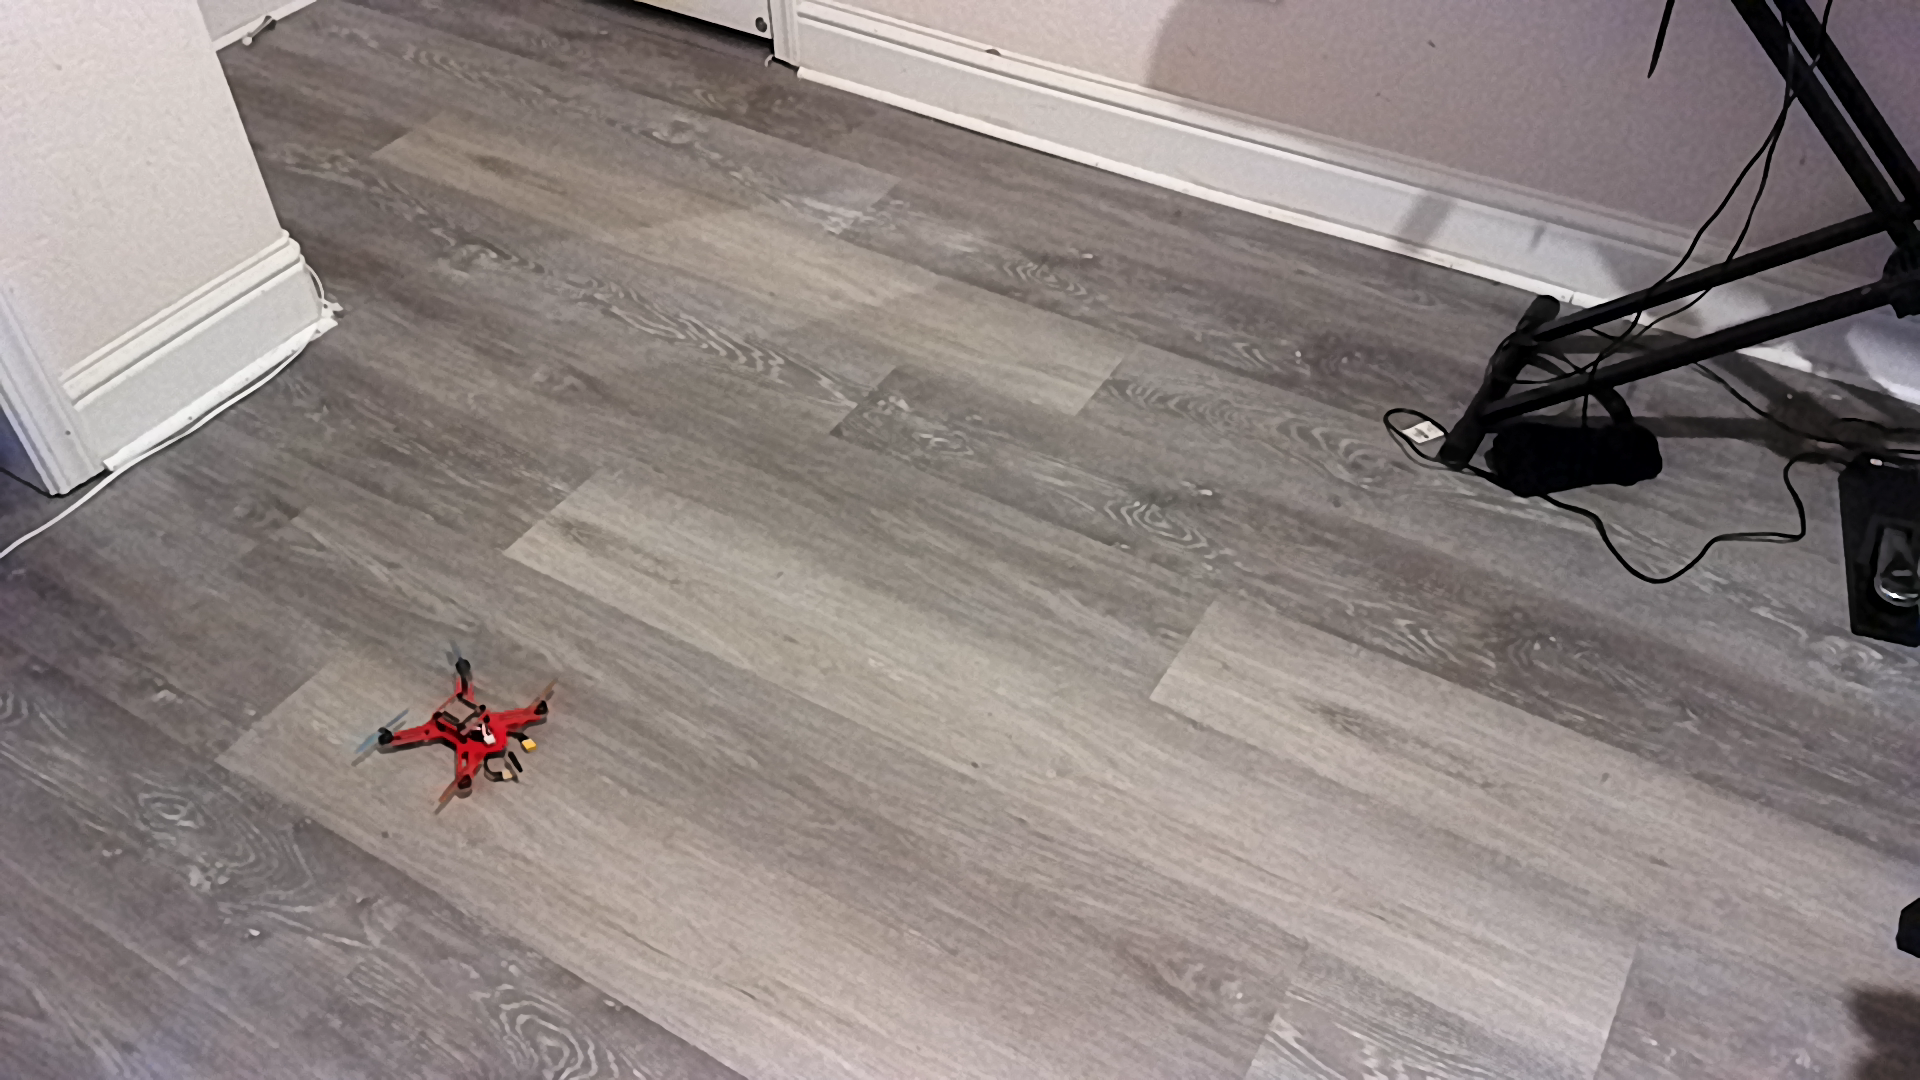drone: (352, 638, 578, 819)
